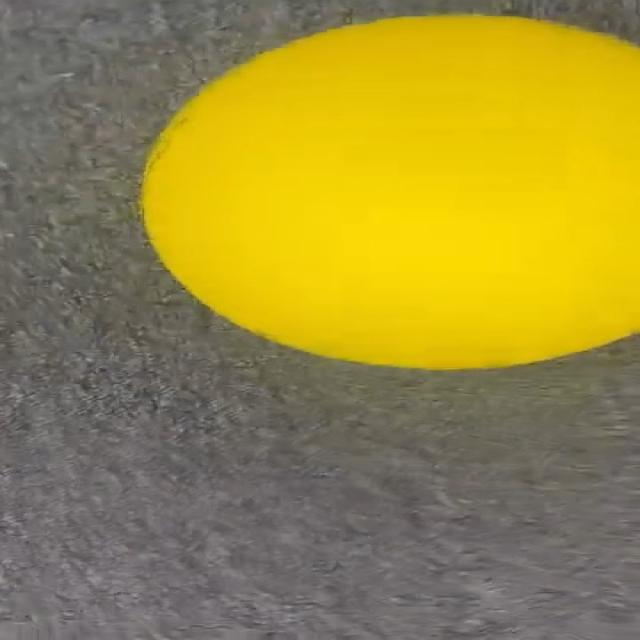Fuels: (144, 16, 638, 367)
